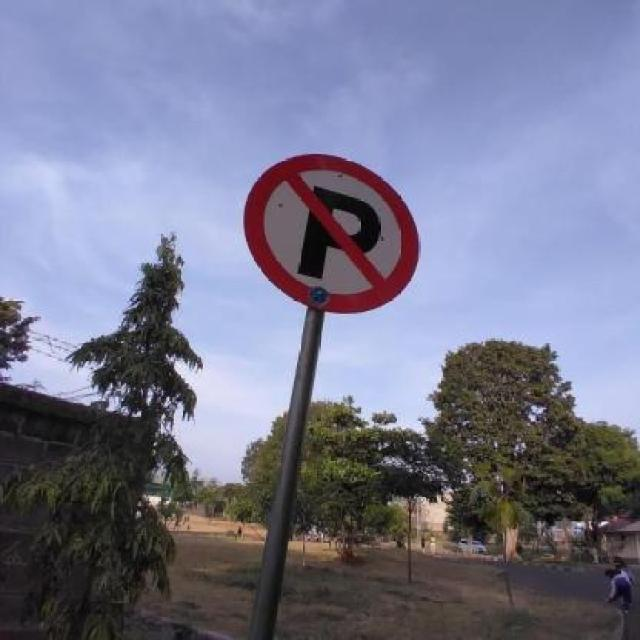no parking: (240, 150, 419, 318)
